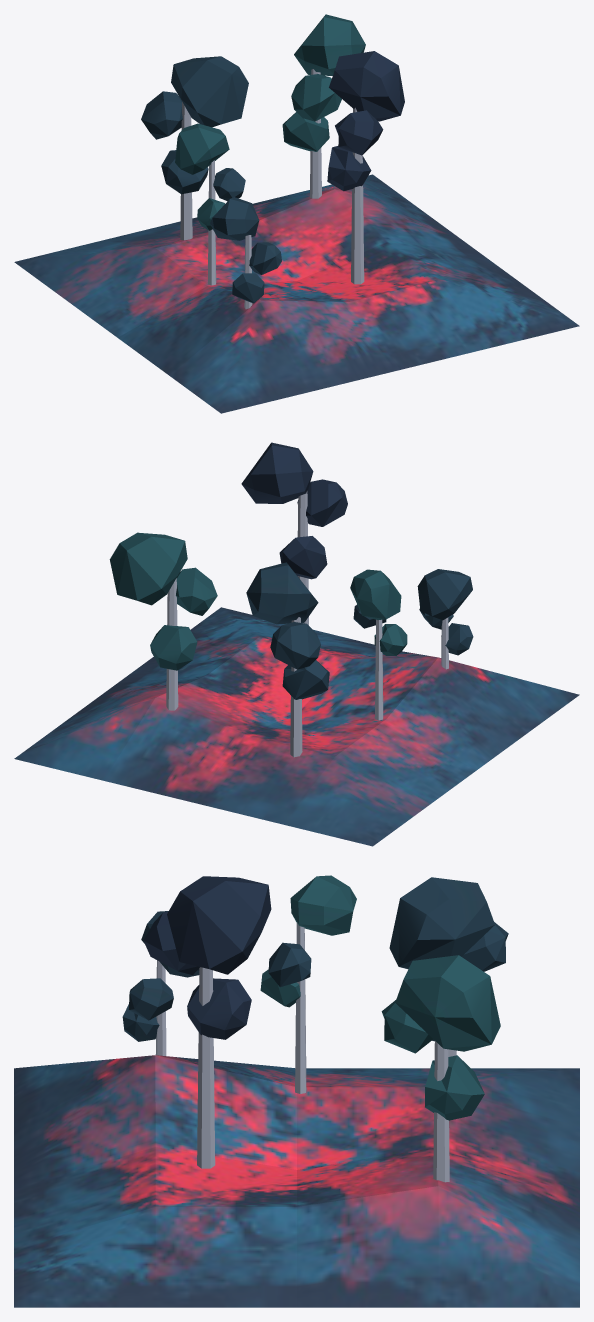
File: tree06.FBX
3 renders of one model, top to bottom at view 1: azimuth 30°, elevation 25°; view 2: azimuth 150°, elevation 25°; view 3: azimuth 270°, elevation 25°, orthographic. The views are drawn at different scales.
Visible parts, largest first — view 1: Tree06; view 2: Tree06; view 3: Tree06.
Boxes of the visible parts, bbox=[...] form: Tree06: bbox=[14, 14, 579, 413]; Tree06: bbox=[14, 442, 579, 846]; Tree06: bbox=[14, 875, 579, 1307].
Bounding box in the file's own units: 1 × 1 × 0.6978.
Materials: 1 (1 with a texture image).
